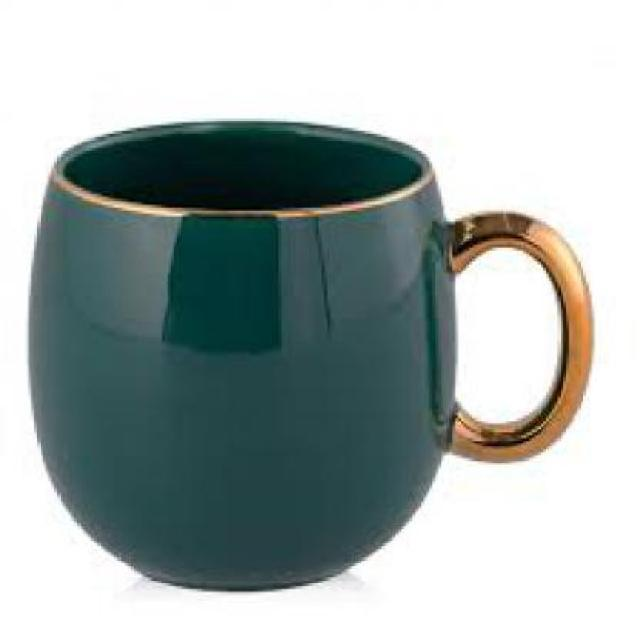cup: (26, 114, 598, 600)
